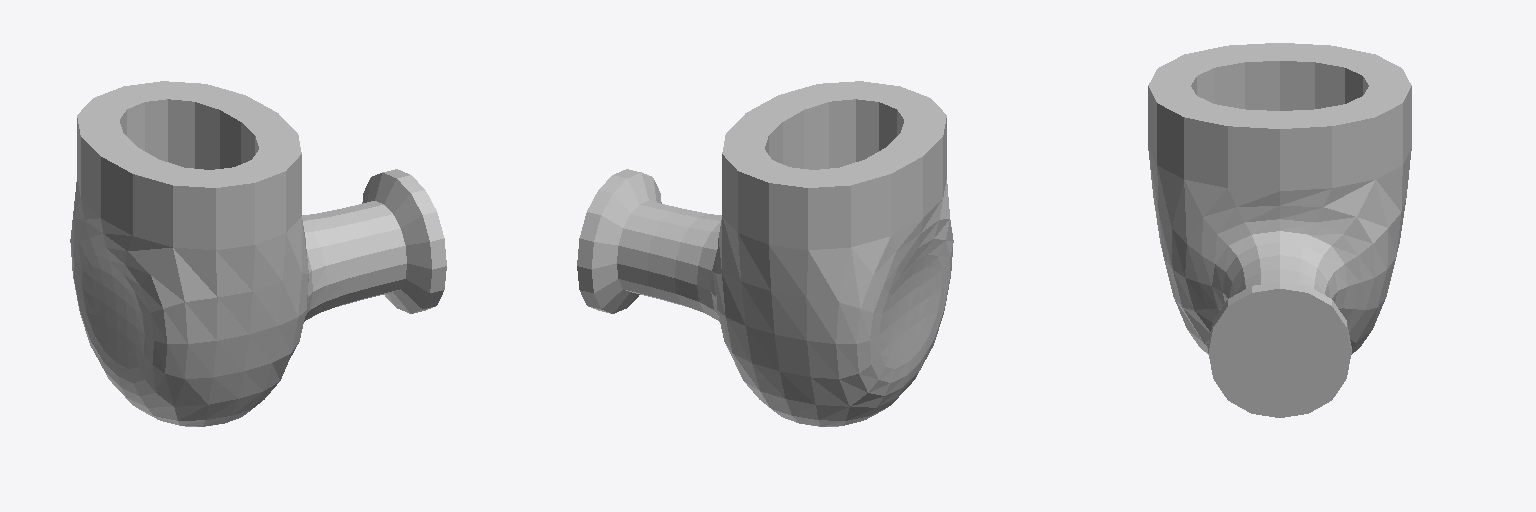
The model's file is sink2.obj.
The picture shows the model from 3 angles: view 1: azimuth 30°, elevation 25°; view 2: azimuth 150°, elevation 25°; view 3: azimuth 270°, elevation 25°; orthographic projection.
Visible parts, largest first — view 1: sink.001; view 2: sink.001; view 3: sink.001.
Boxes of the visible parts, <box> form: sink.001: <box>70,81,446,426</box>; sink.001: <box>577,81,953,426</box>; sink.001: <box>1148,43,1411,417</box>.
Size of the model in its own units: 0.7885 by 0.6679 by 0.5798.